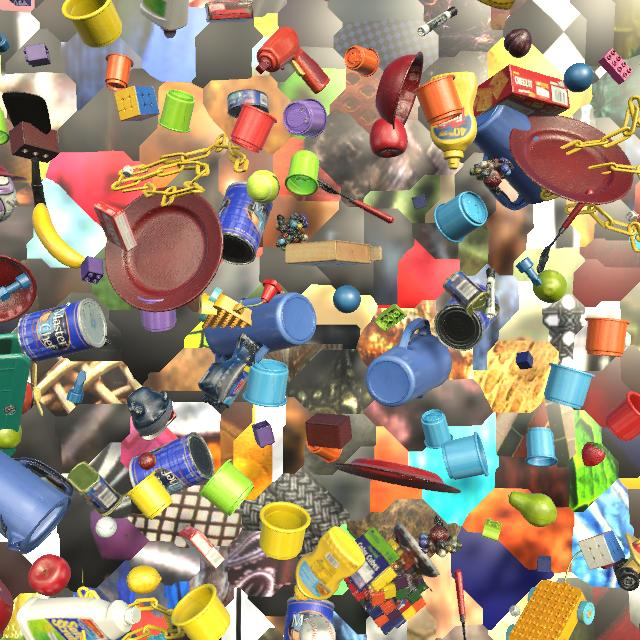ycb_002_master_chef_can: (17, 298, 107, 362), (129, 432, 214, 495), (218, 181, 273, 265), (434, 283, 500, 351), (283, 597, 335, 640)
ycb_003_cracker_box: (473, 64, 570, 118)
ycb_006_mustard_bottle: (294, 526, 365, 601), (430, 72, 477, 170), (477, 0, 516, 10)
ycb_007_tuna_fish_can: (227, 89, 269, 119), (397, 599, 405, 609)
ycb_008_pudding_box: (204, 0, 253, 23)
ycb_009_gelatin_box: (93, 200, 138, 252), (179, 525, 225, 569)
ycb_010_potted_meat_can: (67, 461, 123, 517), (443, 271, 500, 322), (639, 624, 640, 631)
ycb_011_banana: (32, 203, 85, 268)
ycb_012_strawberry: (581, 442, 606, 467)
ycb_013_apple: (28, 554, 71, 596), (369, 118, 408, 158)
ycb_014_lemon: (126, 565, 162, 594)
ycb_016_pear: (508, 491, 558, 527), (532, 270, 567, 303), (0, 425, 22, 449)
ycb_018_plum: (504, 28, 532, 58)
